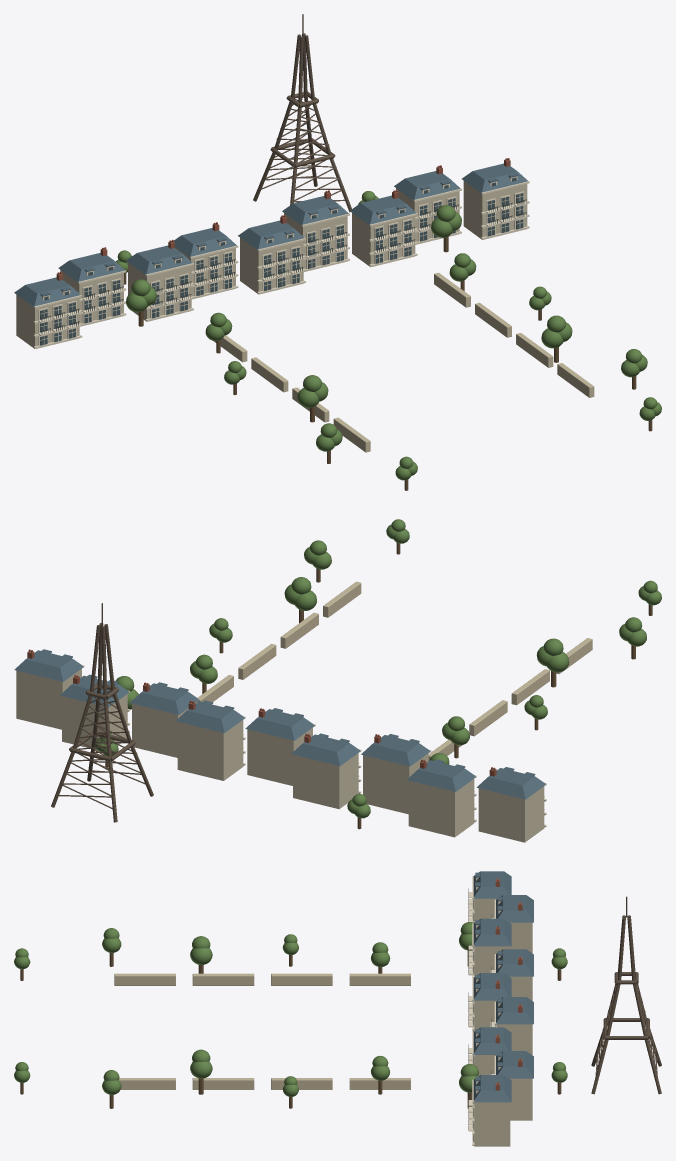
File: region_city_runtime.glb
The picture shows the model from 3 angles, top to bottom: view 1: azimuth 30°, elevation 25°; view 2: azimuth 150°, elevation 25°; view 3: azimuth 270°, elevation 25°; orthographic projection. The views are drawn at different scales.
Visible parts, largest first — view 1: Static Warm limestone, Static Pale carved stone, Static Blue zinc, Static Linden green, Static Window blue, Static Iron lattice, Static Limestone, Static Wrought iron, Static Bark; view 2: Static Warm limestone, Static Blue zinc, Static Linden green, Static Iron lattice, Static Limestone, Static Bark, Static Chimney terracotta; view 3: Static Blue zinc, Static Warm limestone, Static Limestone, Static Linden green, Static Iron lattice, Static Pale carved stone, Static Bark.
Part boxes in pixels (<box>): Static Warm limestone: <box>16,181,527,348</box>; Static Pale carved stone: <box>33,176,529,348</box>; Static Blue zinc: <box>14,163,527,307</box>; Static Linden green: <box>115,191,661,480</box>; Static Window blue: <box>40,177,523,345</box>; Static Iron lattice: <box>253,14,351,212</box>; Static Limestone: <box>213,272,594,452</box>; Static Wrought iron: <box>41,199,526,334</box>; Static Bark: <box>124,236,652,490</box>; Static Warm limestone: <box>16,668,544,842</box>; Static Blue zinc: <box>14,649,546,799</box>; Static Linden green: <box>95,519,661,818</box>; Static Iron lattice: <box>51,603,153,822</box>; Static Limestone: <box>197,581,592,759</box>; Static Bark: <box>105,543,652,829</box>; Static Chimney terracotta: <box>27,649,496,776</box>; Static Blue zinc: <box>473,871,533,1102</box>; Static Warm limestone: <box>474,898,532,1146</box>; Static Limestone: <box>114,973,410,1089</box>; Static Linden green: <box>14,922,567,1096</box>; Static Iron lattice: <box>591,896,661,1094</box>; Static Pale carved stone: <box>468,876,501,1145</box>; Static Bark: <box>20,951,561,1108</box>.
Size of the model in its own units: 48.7 by 18.06 by 57.87.
